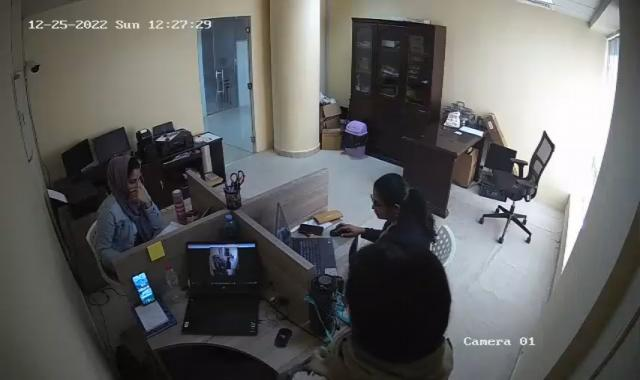no_hairnet: (347, 238, 445, 341), (369, 167, 415, 225), (103, 153, 144, 186)
